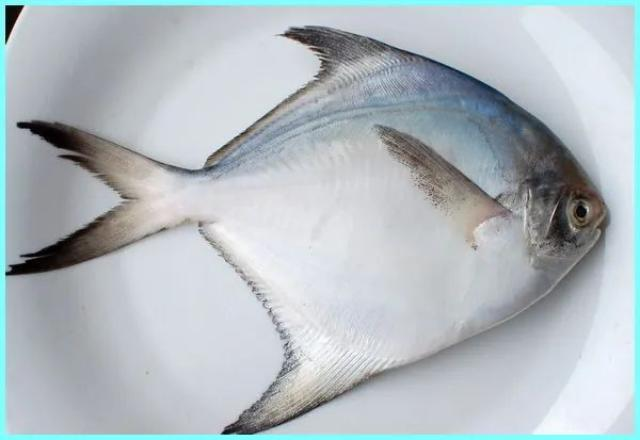Mulut: (576, 196, 628, 258)
Sirip Anal: (183, 211, 309, 343)
Sirip Dada: (364, 102, 520, 268)
Sirip Ekor: (2, 93, 180, 295)
Sirip Perut: (204, 338, 384, 439)
Sirip Punggung: (198, 9, 416, 167)
